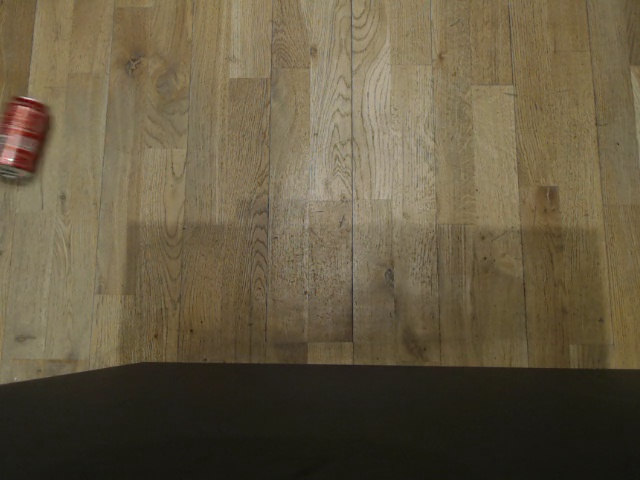beer: (256, 58, 339, 138), (130, 285, 225, 350), (225, 287, 316, 354), (444, 325, 549, 368)
cola: (81, 0, 166, 39)
